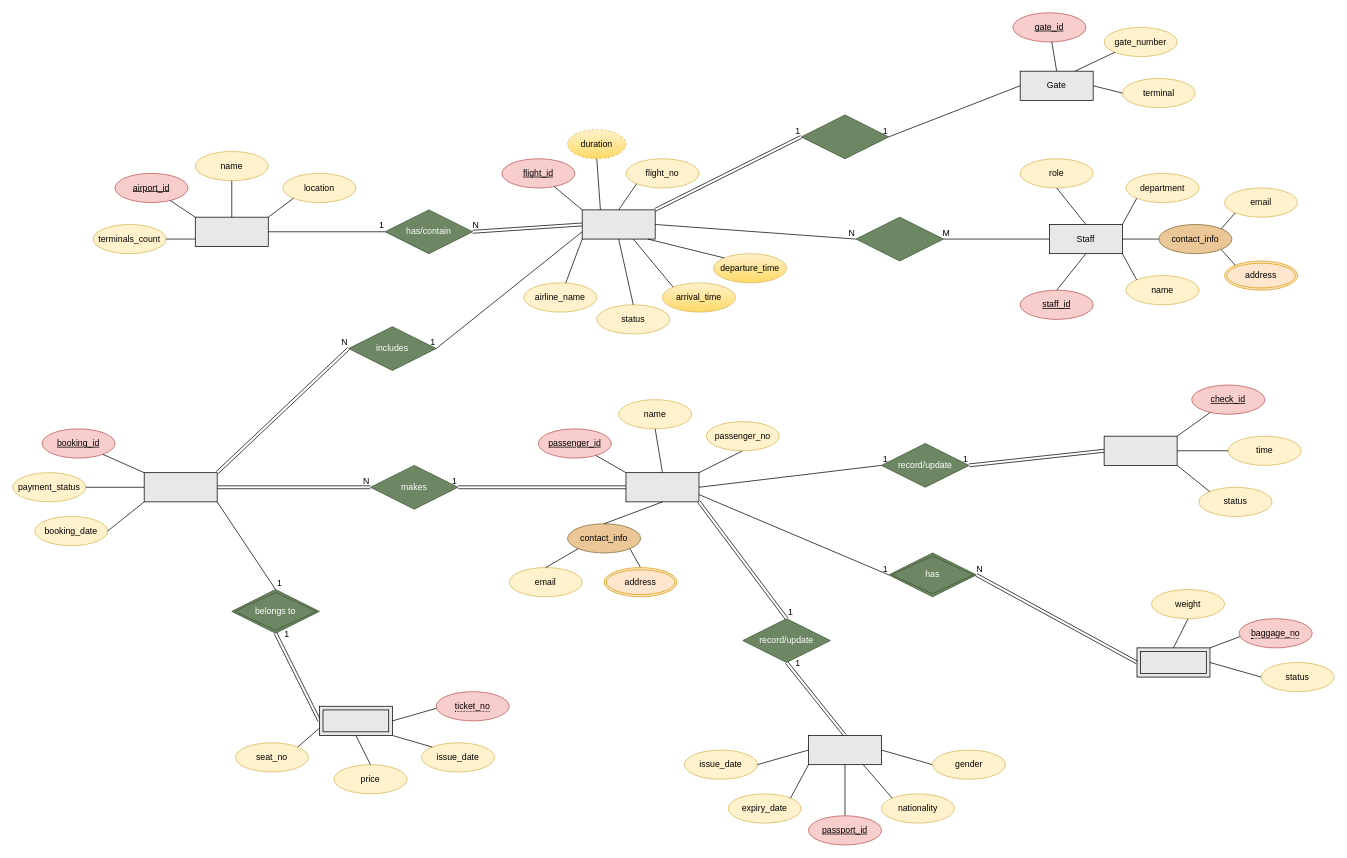
Some shapes in this 1347 by 858 pixel diagram are drawn without their labels. Each missing label, with the box of its shape:
Airport: (195, 216, 268, 246)
Baggage: (1136, 647, 1210, 677)
Booking: (143, 472, 217, 502)
departs from: (800, 114, 889, 159)
Flight: (581, 209, 655, 239)
Passenger: (625, 472, 699, 502)
Passport: (808, 735, 881, 765)
SecurityCheck: (1103, 435, 1177, 465)
Ticket: (319, 706, 392, 735)
works on: (855, 216, 944, 261)
